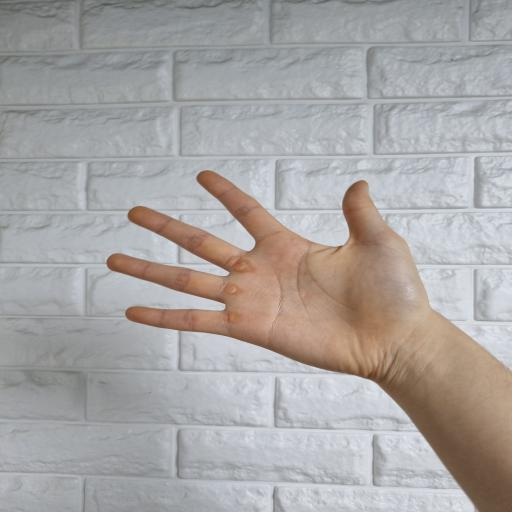Paper: (104, 169, 432, 384)
